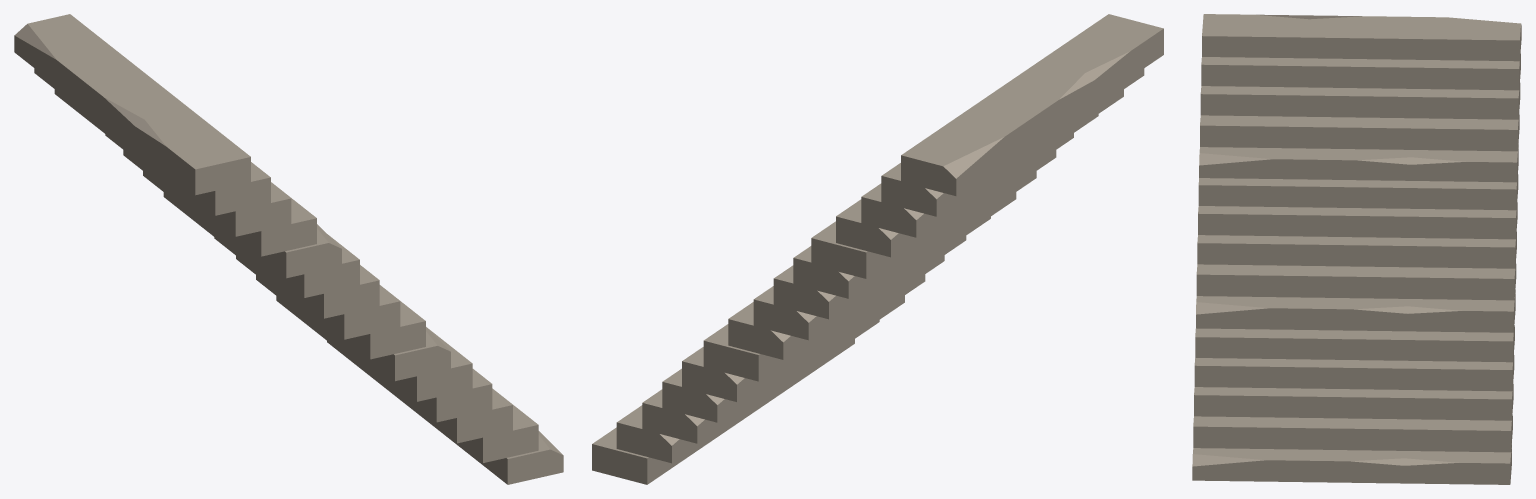
The model's file is MOUNTAIN1_STAIRS1.fbx.
The picture shows the model from 3 angles, left to right: view 1: azimuth 30°, elevation 25°; view 2: azimuth 150°, elevation 25°; view 3: azimuth 270°, elevation 25°; orthographic projection. The views are drawn at different scales.
Parts seen in each view (by area): view 1: Cube.179; view 2: Cube.179; view 3: Cube.179.
Boxes of the visible parts, x1,y1,x2,y2 form: Cube.179: (14, 14, 563, 484); Cube.179: (592, 14, 1163, 484); Cube.179: (1192, 14, 1521, 484).
Bounding box in the file's own units: 1360 × 1348 × 1255.
